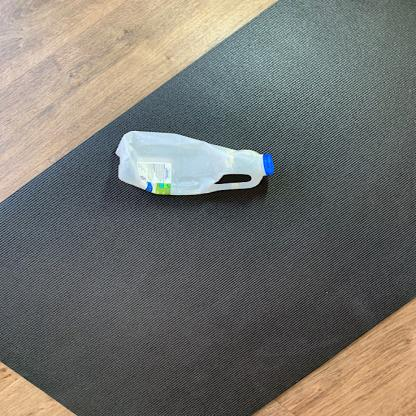trash: (113, 128, 277, 198)
